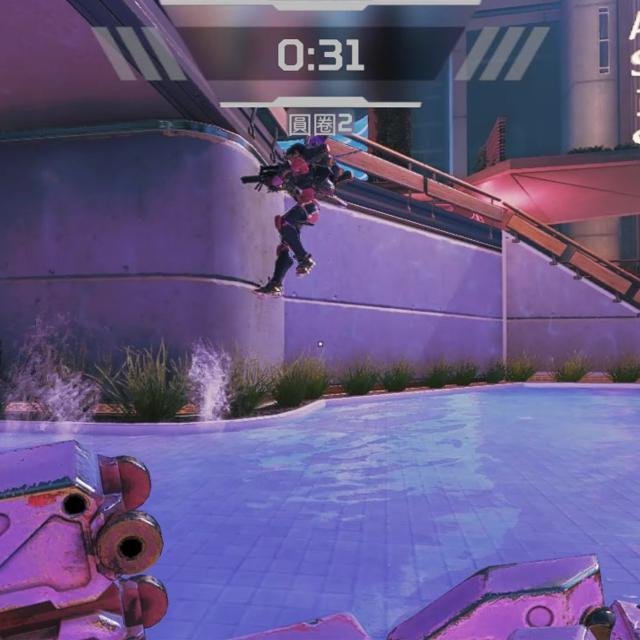avatar: (271, 141, 322, 299)
